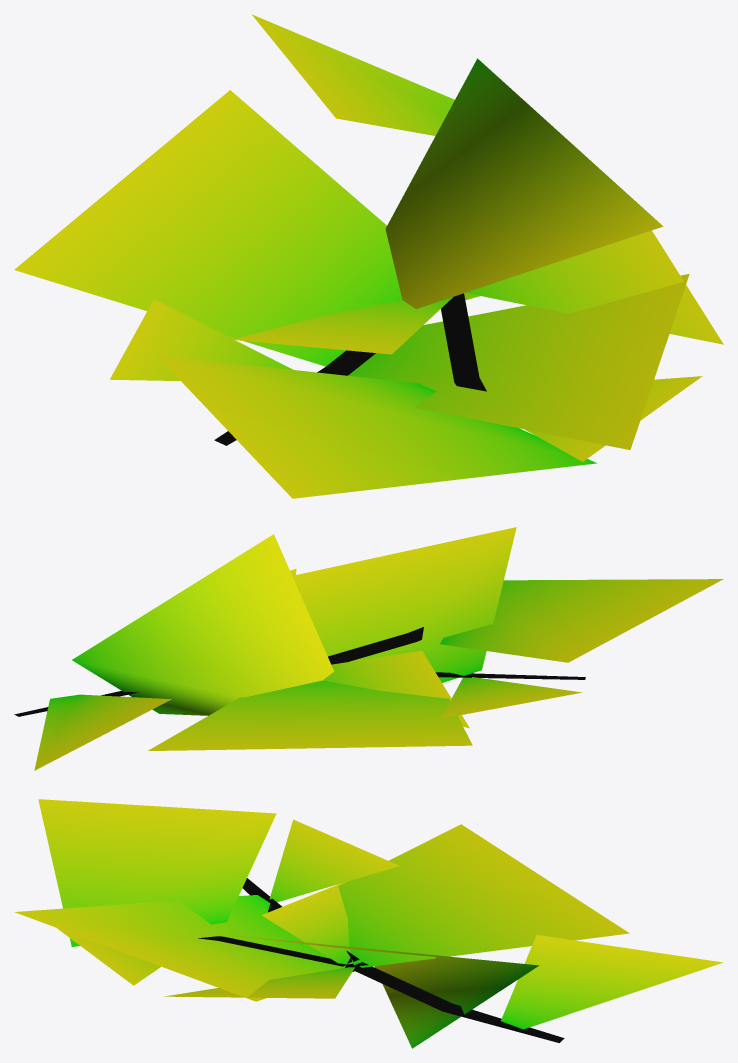
The model's file is Mile-a-minute Vine_LOD2_Var9_sfqns.fbx.
The picture shows the model from 3 angles, top to bottom: view 1: azimuth 30°, elevation 25°; view 2: azimuth 150°, elevation 25°; view 3: azimuth 270°, elevation 25°; orthographic projection. The views are drawn at different scales.
Parts seen in each view (by area): view 1: _77eb_Var9_LOD2; view 2: _77eb_Var9_LOD2; view 3: _77eb_Var9_LOD2.
Boxes of the visible parts, box(x1,y1,x2,y2) form: _77eb_Var9_LOD2: box(14, 14, 723, 498); _77eb_Var9_LOD2: box(14, 527, 723, 770); _77eb_Var9_LOD2: box(14, 799, 723, 1048).
Bounding box in the file's own units: 9.9 × 2.42 × 14.58.
